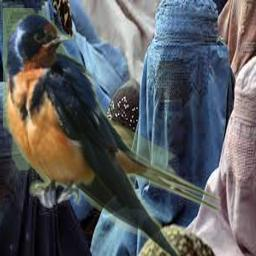Swallow: (3, 8, 221, 256)
